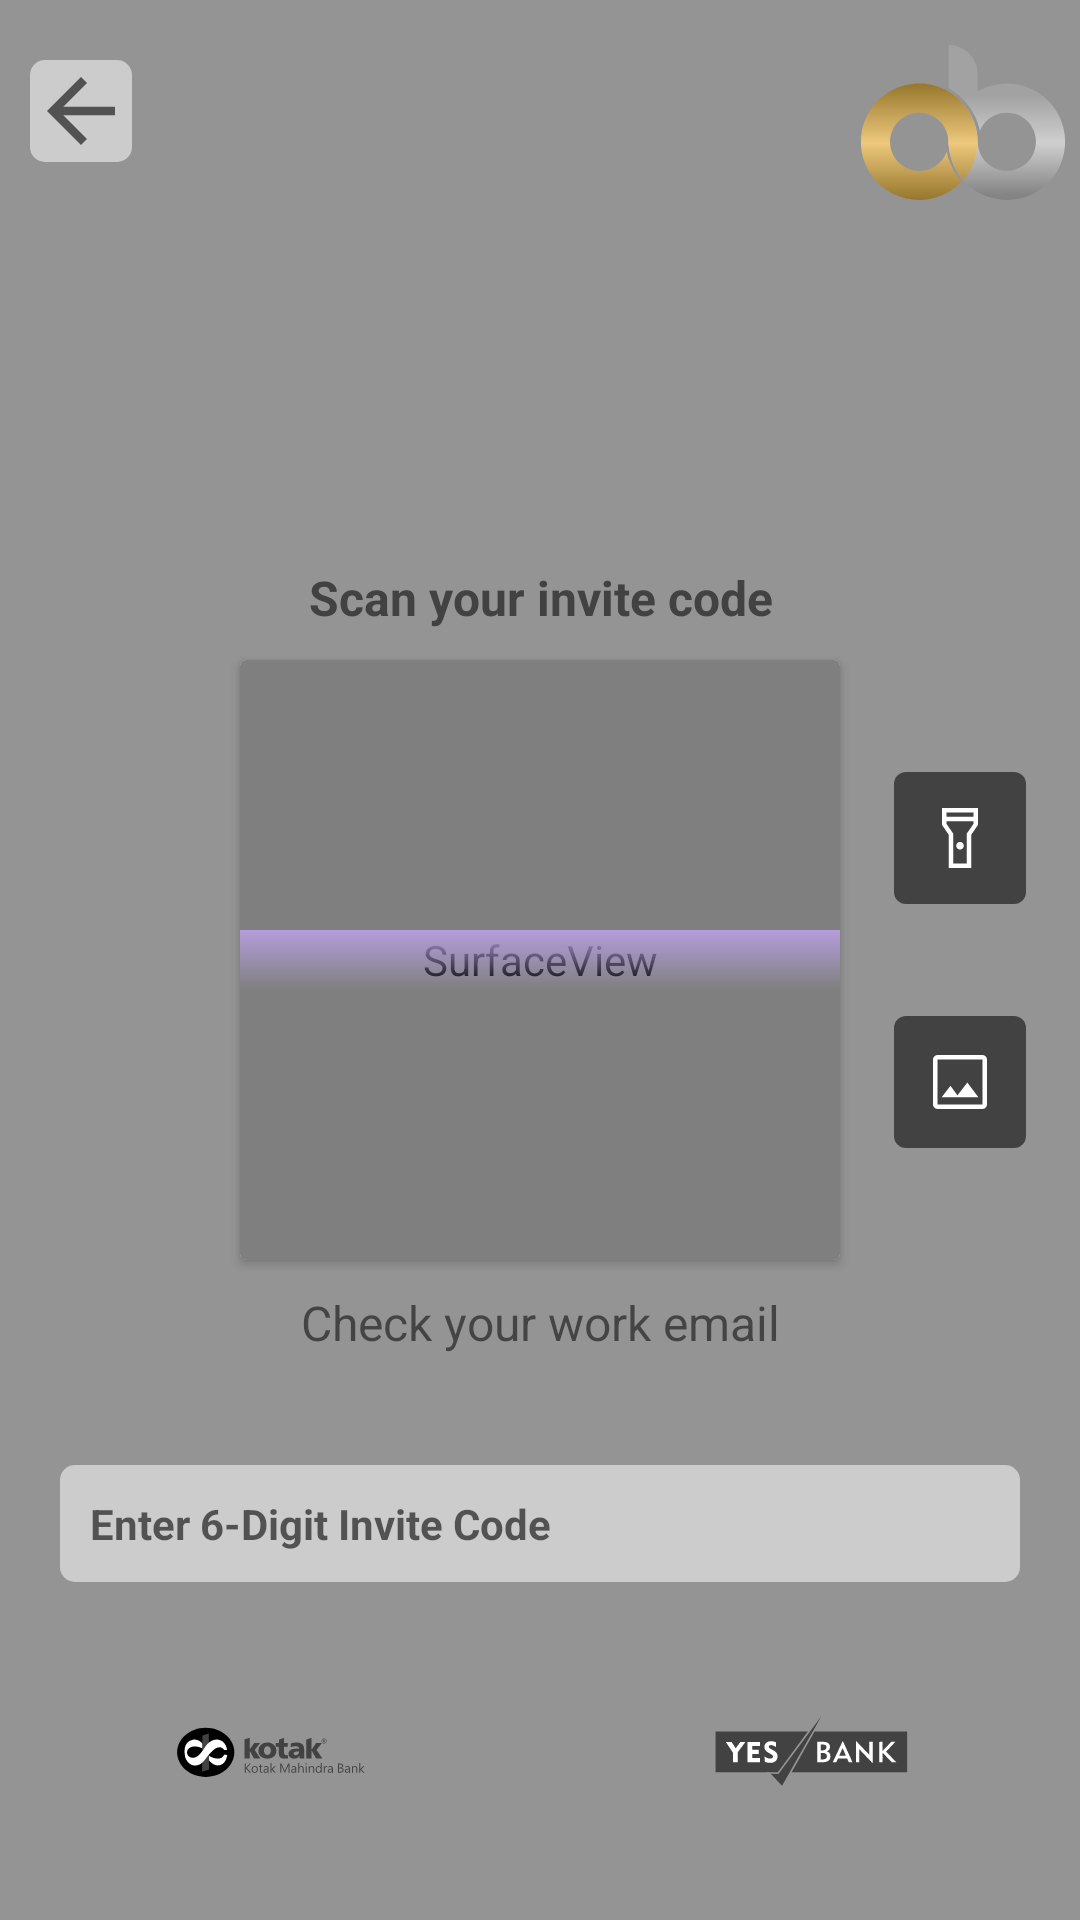

Named icons in this screenshot (1080px×1920px) and their centers, (x,y):
back: (81,111)
flashlight on: (960,838)
